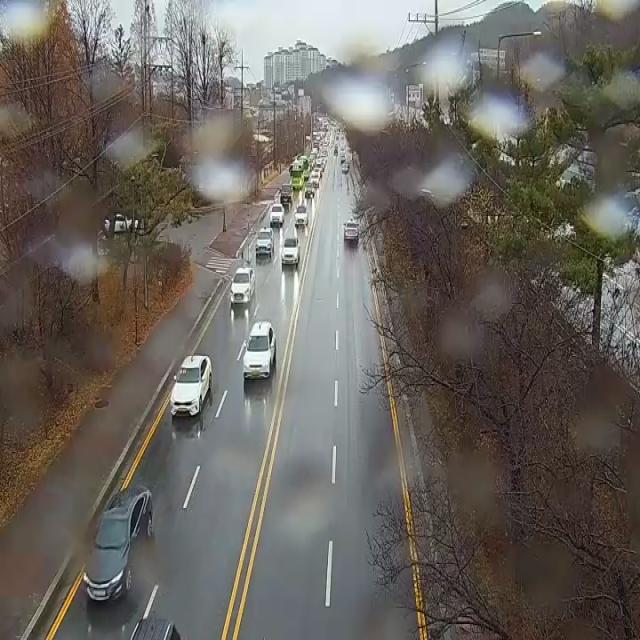Bus: (289, 162, 304, 188), (298, 155, 310, 178)
Car: (83, 486, 154, 602), (171, 356, 212, 416), (242, 322, 276, 378), (129, 620, 181, 640), (230, 268, 255, 303), (105, 213, 138, 232), (281, 236, 300, 265), (256, 226, 273, 258), (343, 220, 359, 239), (294, 206, 308, 226), (270, 204, 284, 222), (281, 184, 292, 203), (304, 187, 314, 198), (316, 158, 322, 175), (311, 178, 319, 188), (312, 170, 320, 178), (342, 164, 348, 173)
